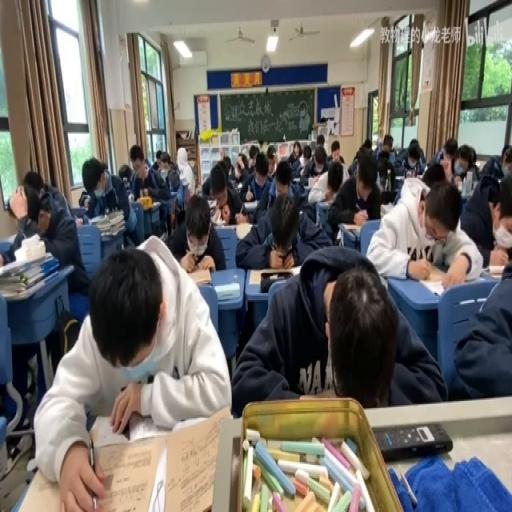calculator: (417, 268, 474, 298), (247, 266, 300, 286), (182, 269, 212, 287), (214, 282, 240, 300), (480, 263, 506, 280), (234, 222, 252, 240), (338, 220, 360, 234), (292, 181, 309, 196), (210, 206, 224, 224), (136, 194, 152, 208), (380, 200, 394, 214), (474, 156, 486, 170), (242, 199, 258, 209), (88, 214, 104, 224), (315, 196, 331, 206), (406, 175, 426, 183), (305, 175, 317, 188), (150, 199, 162, 209), (206, 199, 217, 209), (179, 175, 189, 186), (394, 174, 405, 184), (74, 216, 84, 225), (292, 176, 302, 184), (237, 180, 242, 190)
paper: (34, 238, 228, 509), (230, 245, 440, 415), (366, 176, 480, 289), (2, 174, 88, 297), (450, 256, 510, 401), (234, 185, 326, 269), (83, 155, 141, 246), (326, 155, 379, 243), (166, 191, 224, 270), (485, 173, 512, 267), (152, 149, 182, 226), (265, 155, 299, 208), (448, 142, 480, 186), (477, 142, 509, 184), (393, 136, 424, 175), (300, 144, 328, 182), (375, 150, 396, 200), (229, 149, 252, 188), (23, 186, 42, 225), (421, 164, 446, 188), (326, 139, 346, 168), (346, 146, 365, 176), (118, 164, 132, 188), (369, 138, 383, 162), (220, 155, 233, 179), (288, 141, 301, 165), (329, 170, 342, 194), (380, 134, 394, 154), (443, 140, 457, 160), (6, 196, 18, 218), (176, 146, 187, 168), (78, 189, 90, 206), (248, 146, 258, 166), (315, 132, 325, 148), (362, 138, 372, 151), (160, 158, 170, 171), (267, 145, 276, 158), (154, 149, 161, 161), (304, 148, 310, 161), (152, 159, 160, 168)
person: (374, 422, 451, 461)
